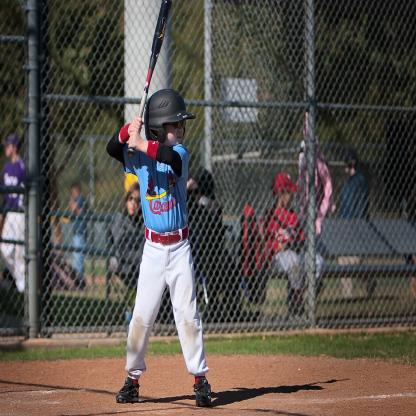Helmet: (138, 90, 189, 143)
